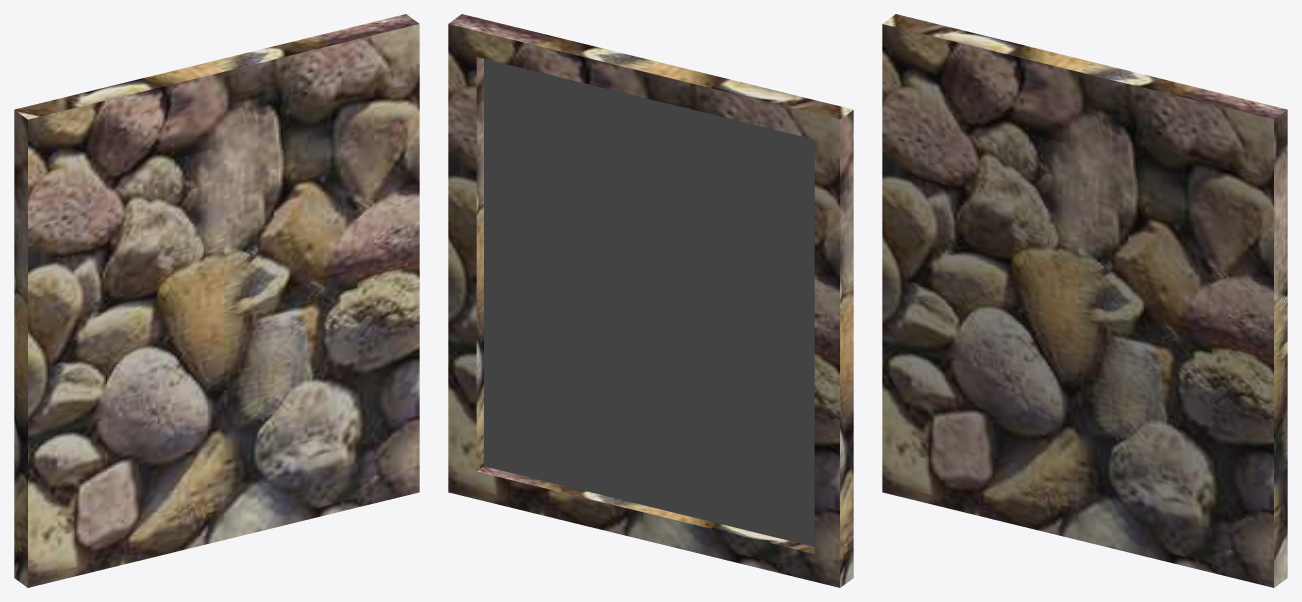
Rendered from frame3.gltf.
The picture shows the model from 3 angles, left to right: view 1: azimuth 30°, elevation 25°; view 2: azimuth 150°, elevation 25°; view 3: azimuth 330°, elevation 25°; orthographic projection.
Parts seen in each view (by area): view 1: root; view 2: root; view 3: root.
Part boxes in pixels (x1=…): root: x1=14, y1=14, x2=419, y2=587; root: x1=448, y1=14, x2=853, y2=587; root: x1=882, y1=14, x2=1287, y2=587.
Size of the model in its own units: 0.4477 by 0.5112 by 0.027.
2 materials, 1 textured.
